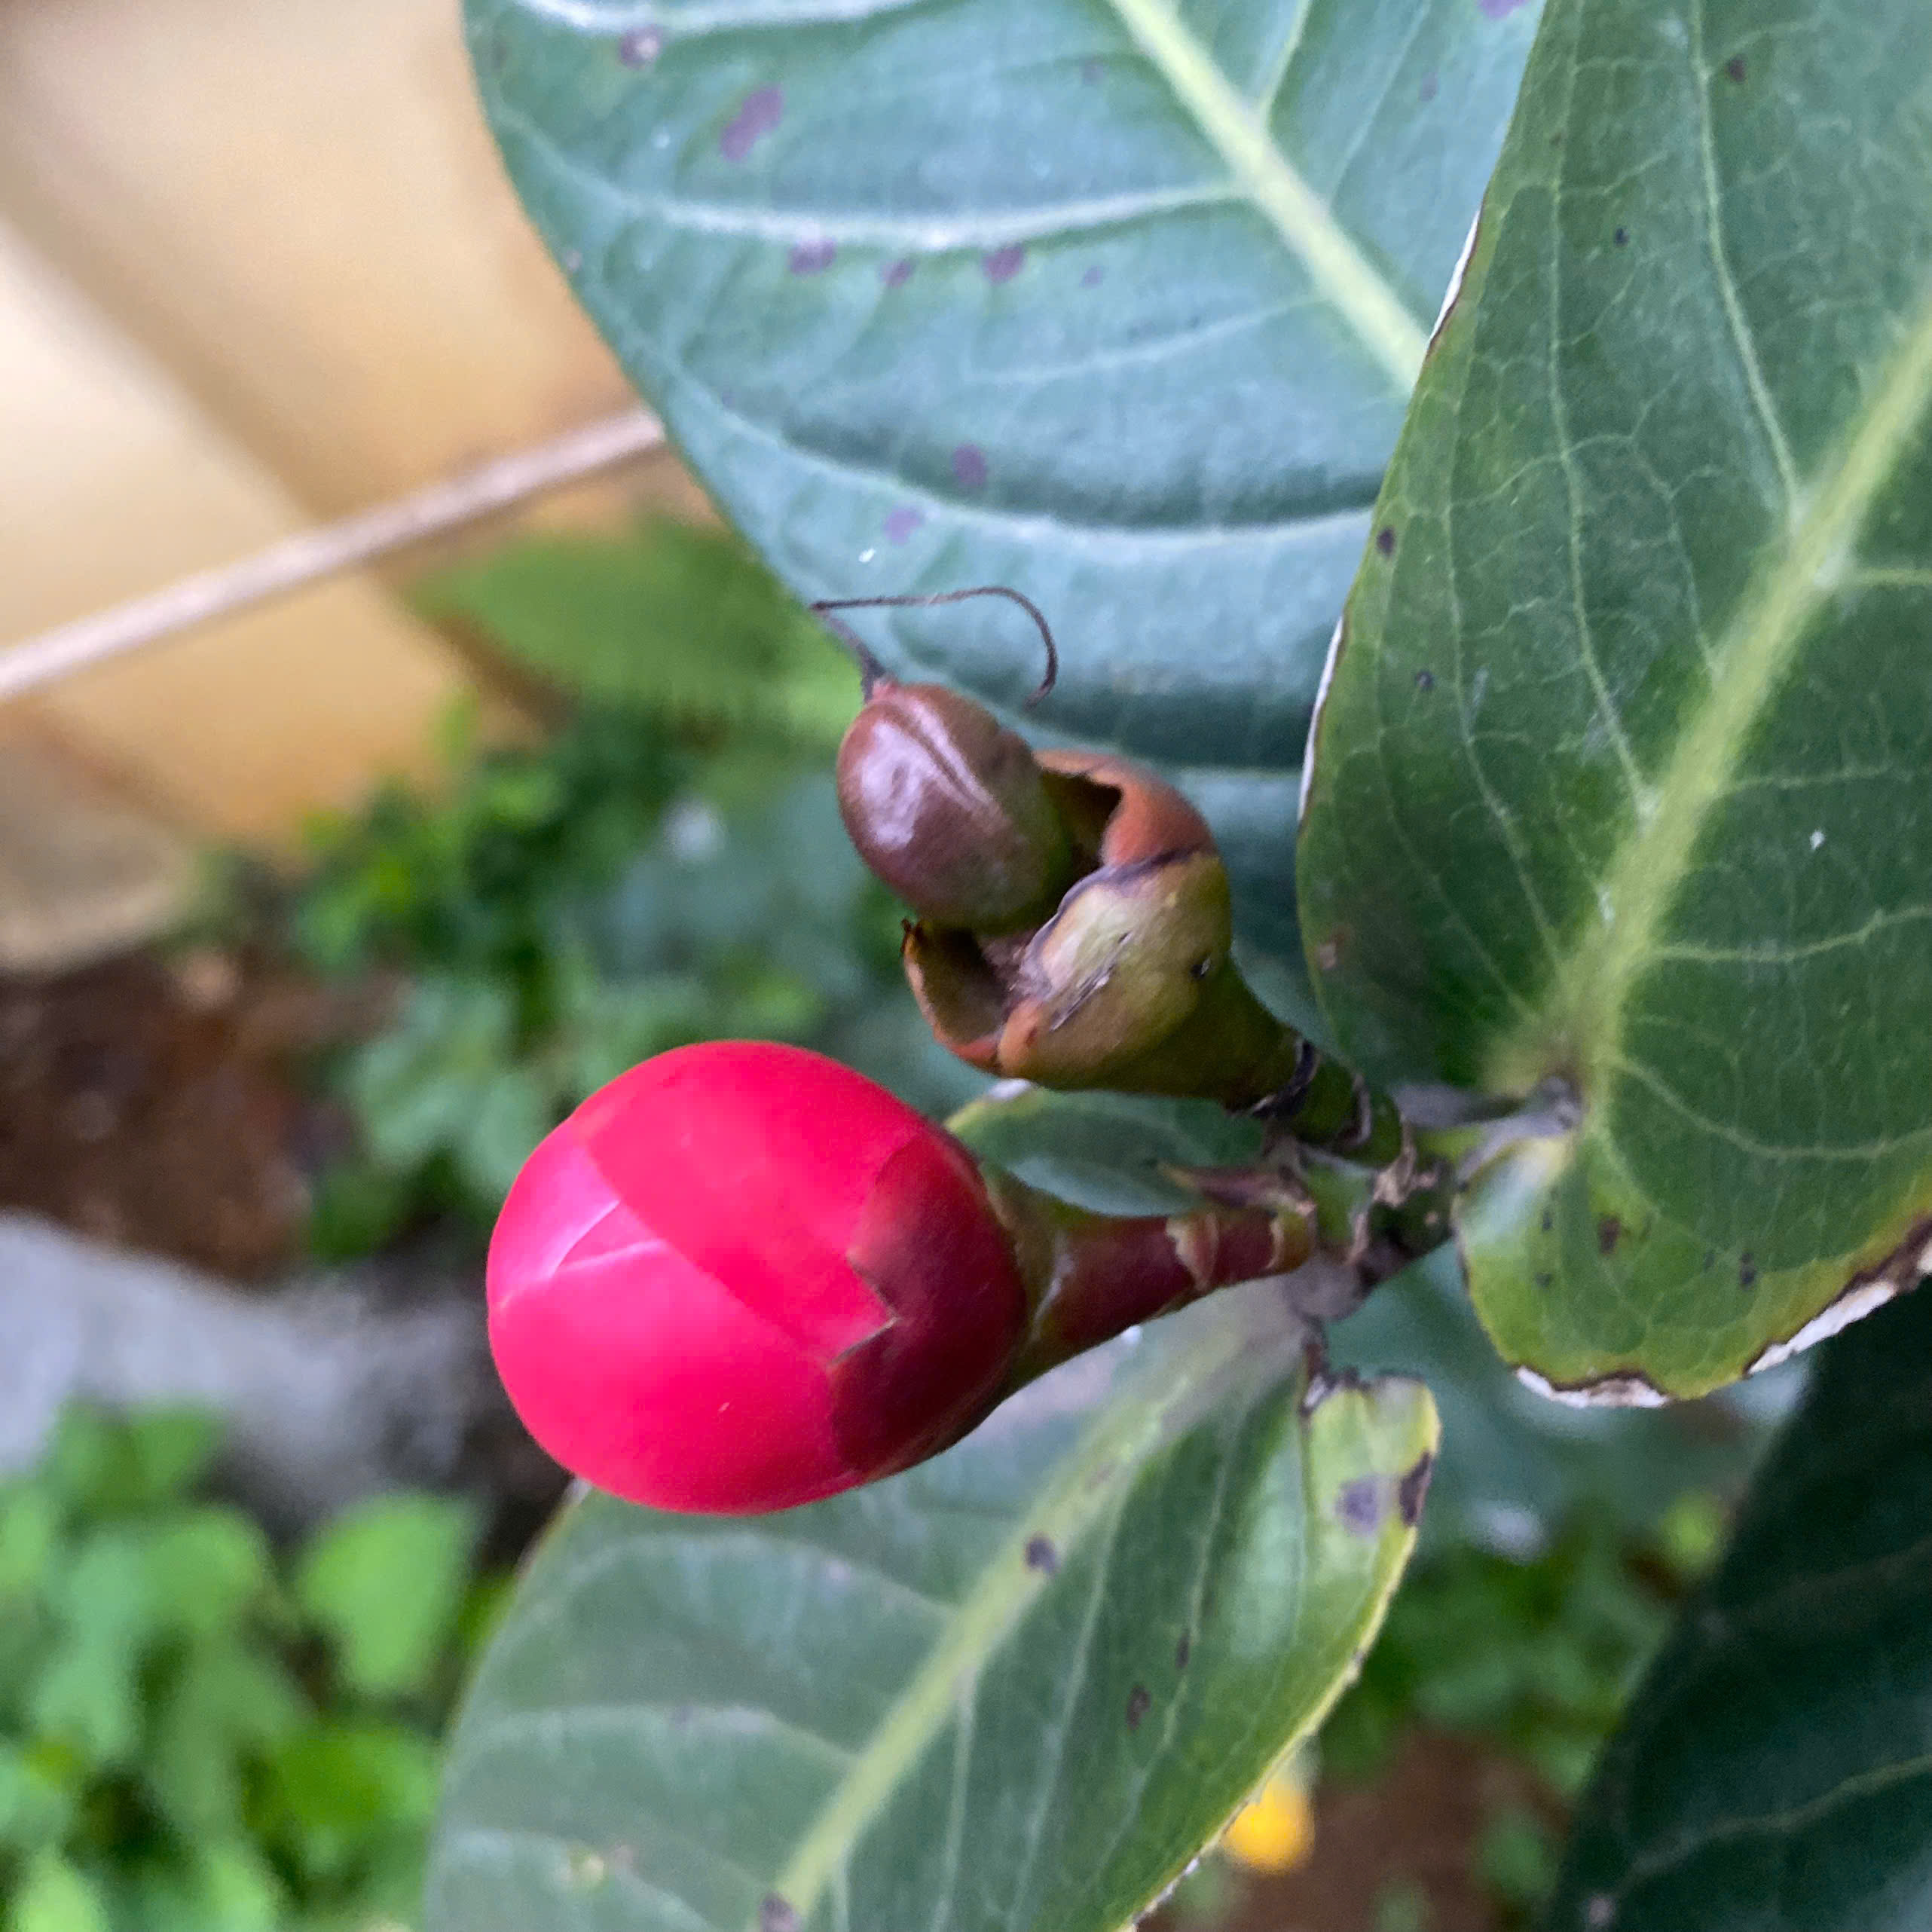hoa_hai_duong: (421, 658, 1888, 1920)
